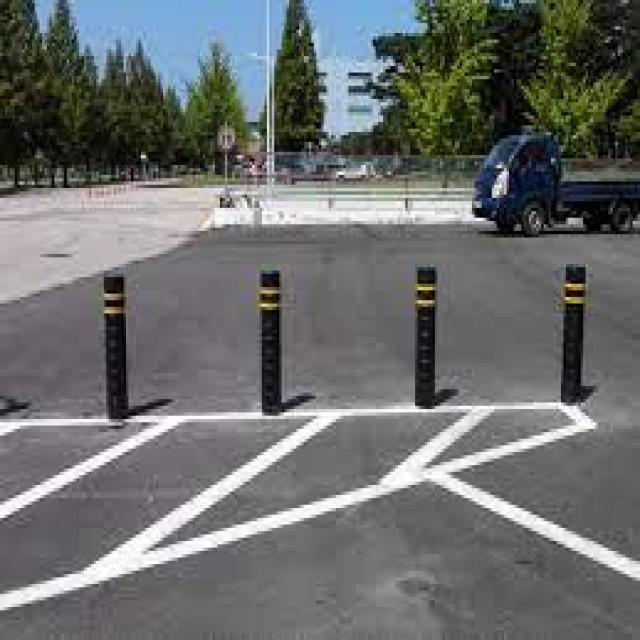bollard: (98, 246, 139, 429), (254, 261, 290, 421), (557, 258, 590, 412), (413, 258, 443, 414)
